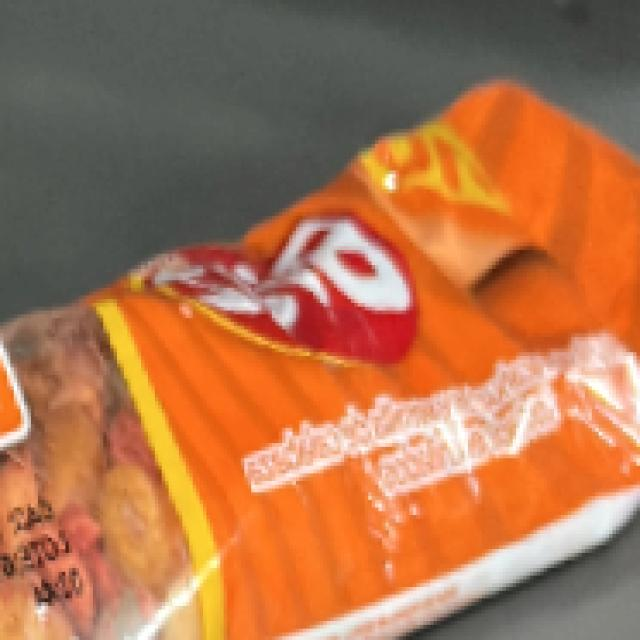bitzEnchilado95: (9, 236, 629, 554)
